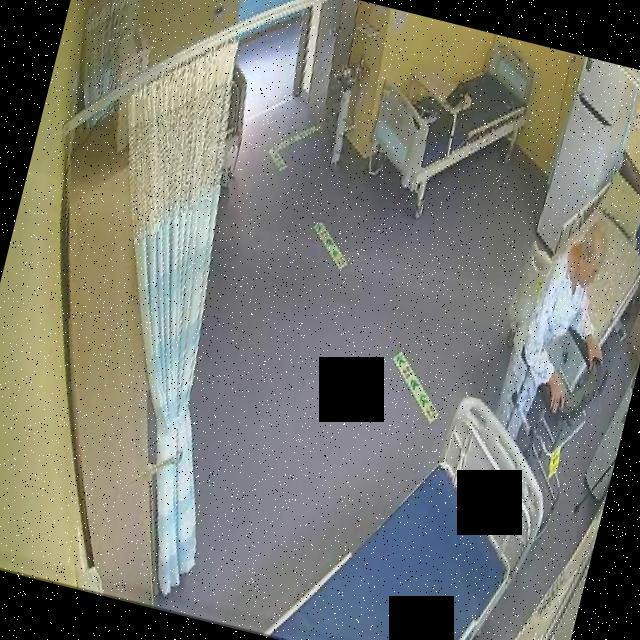bed: (265, 363, 566, 640), (490, 145, 640, 399), (358, 16, 544, 216)
patient: (479, 204, 632, 434)
